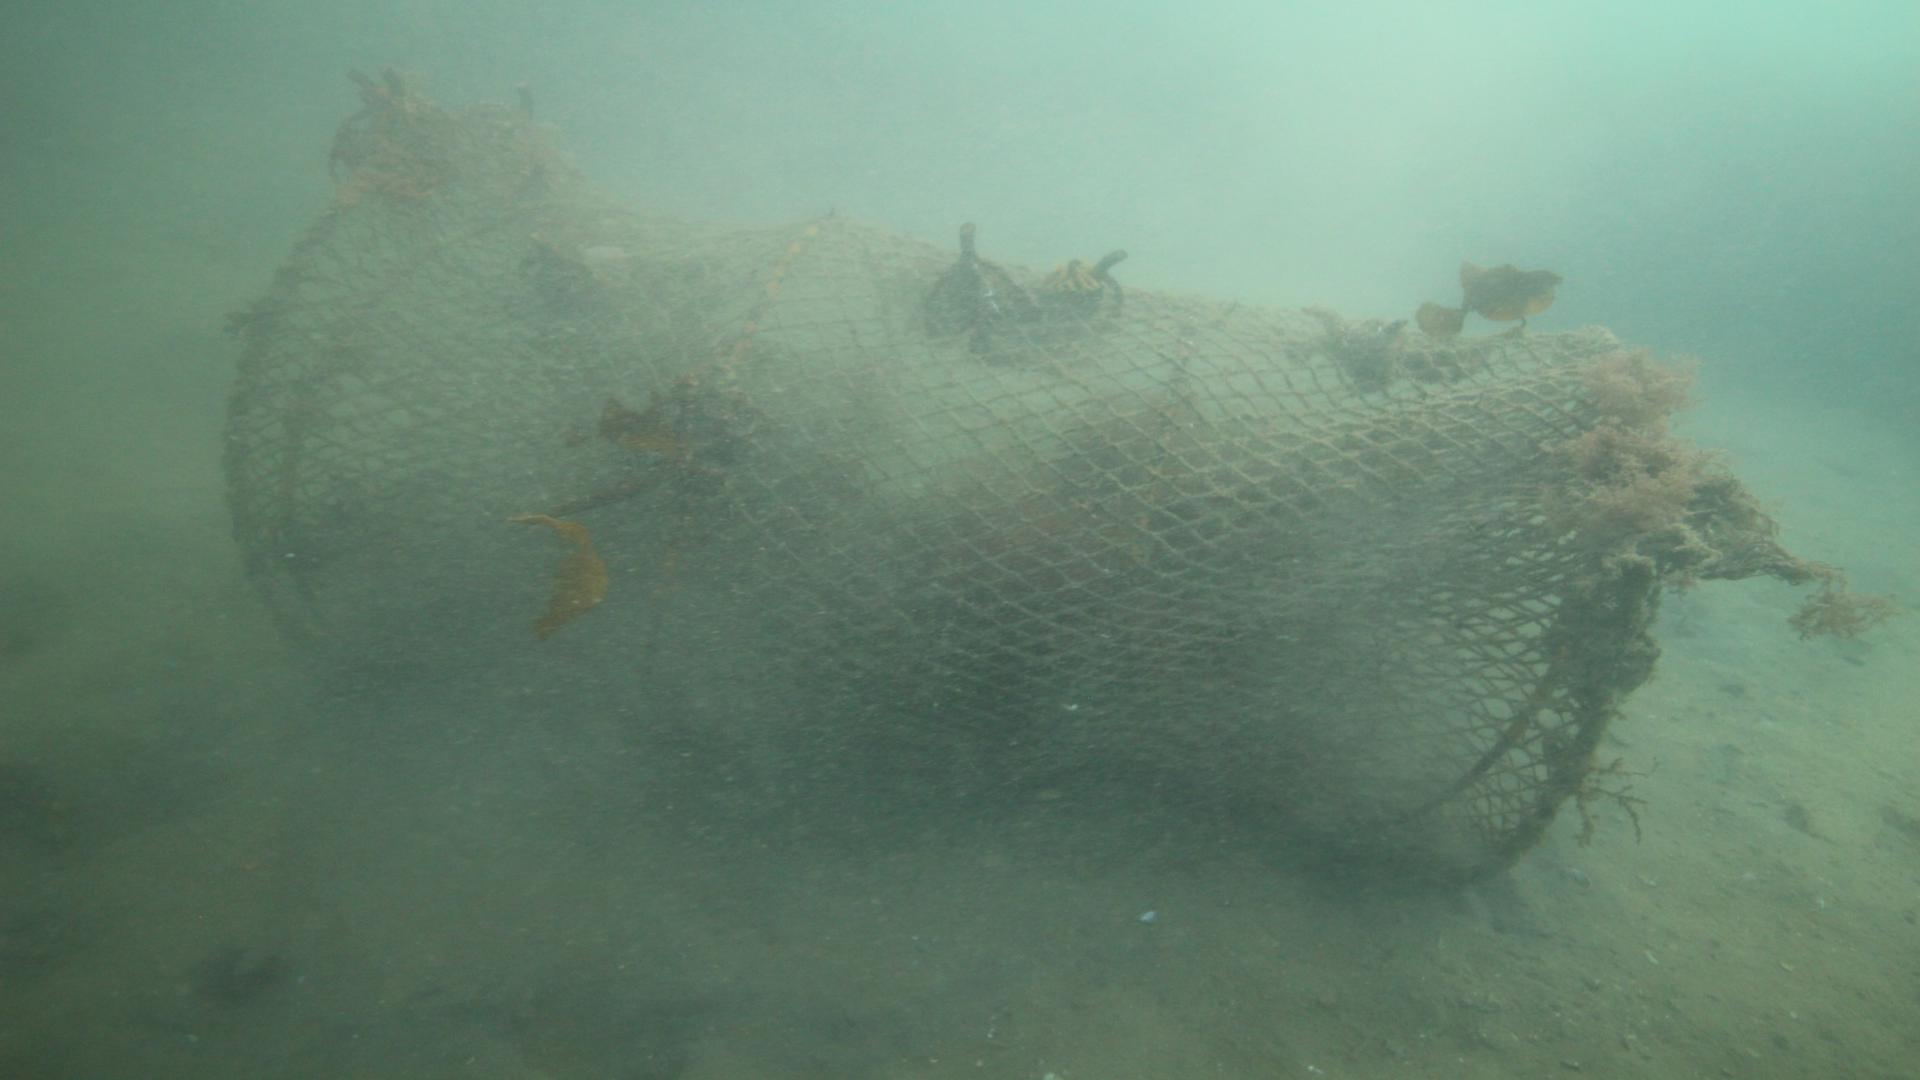spring fish trap: (218, 140, 1668, 890)
